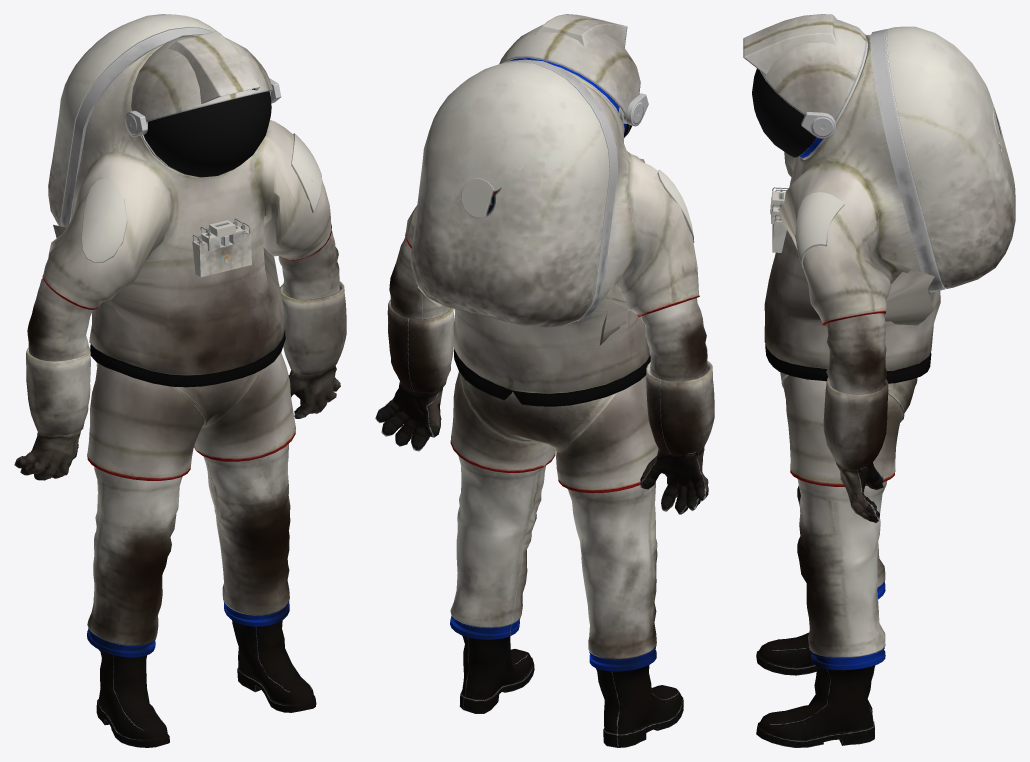
The model's file is z2_spacesuit.glb.
The picture shows the model from 3 angles, left to right: view 1: azimuth 30°, elevation 25°; view 2: azimuth 150°, elevation 25°; view 3: azimuth 270°, elevation 25°; orthographic projection.
Visible parts, largest first — view 1: Z2; view 2: Z2; view 3: Z2.
Boxes of the visible parts, <box> form: Z2: <box>14,14,346,747</box>; Z2: <box>375,14,714,747</box>; Z2: <box>743,14,1015,747</box>.
Bounding box in the file's own units: 0.9731 × 1.94 × 0.7026.
1 material, 1 textured.
